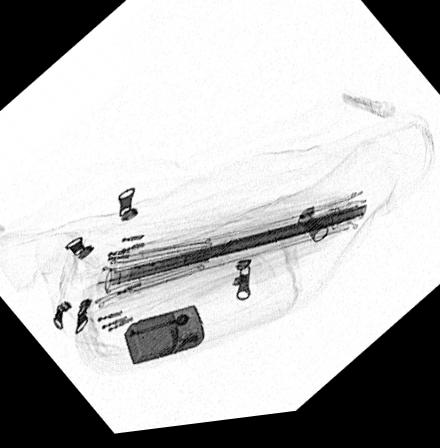Lighter: (121, 309, 204, 368)
